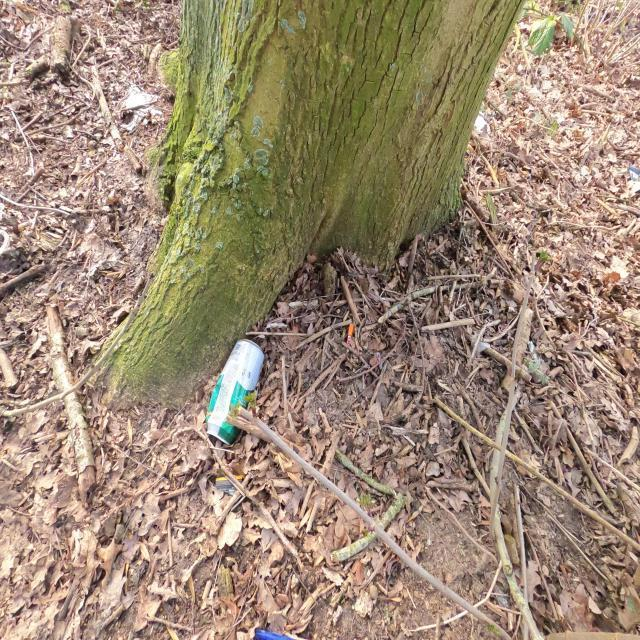Can-Metal: (204, 336, 266, 447)
